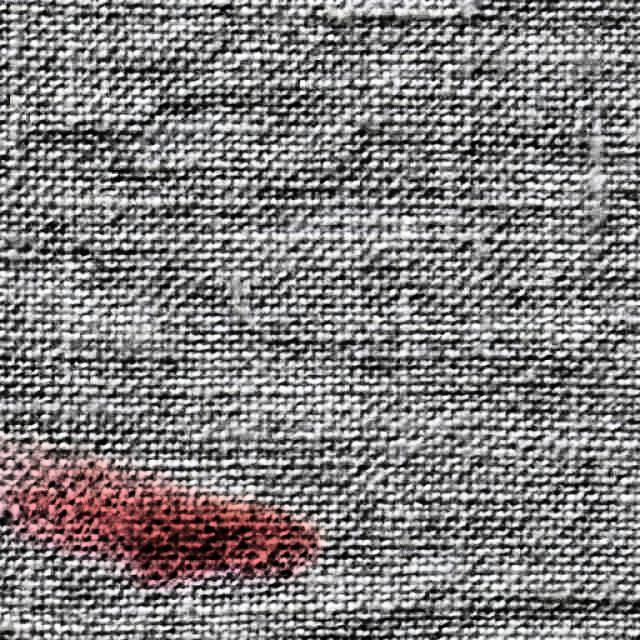Hole: (0, 404, 366, 620)
